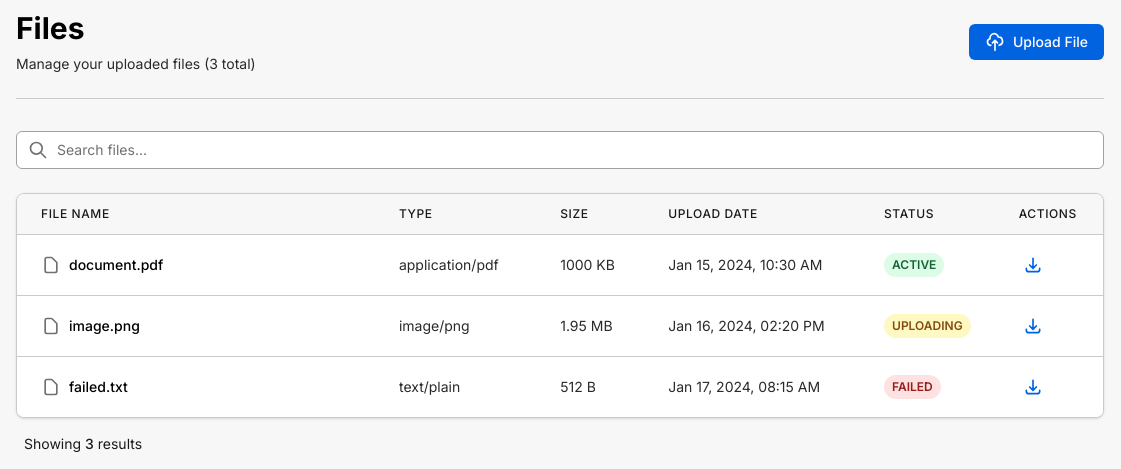
FilesPage › Search functionality › should filter files by name
Type "document" into the field with placeholder "Search files...".
click(560, 150); type("document")  # box [16, 131, 1104, 169]
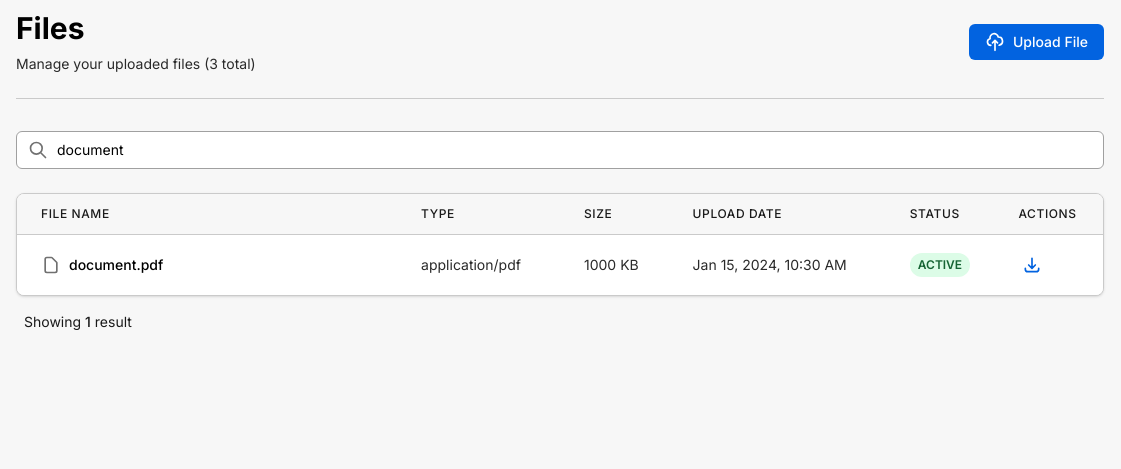
Expected: the text "document.pdf" is shown, [69, 255, 163, 275]
Now the text "image.png" is gone
Now the text "failed.txt" is gone
